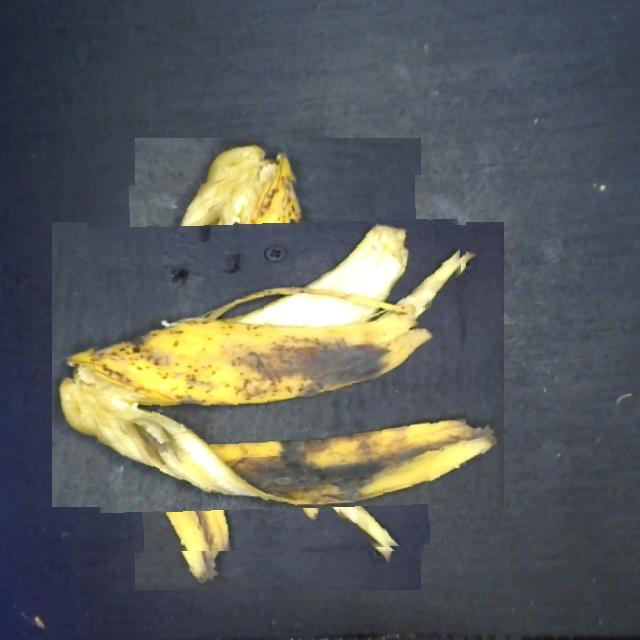biodegradable: (90, 177, 466, 551)
